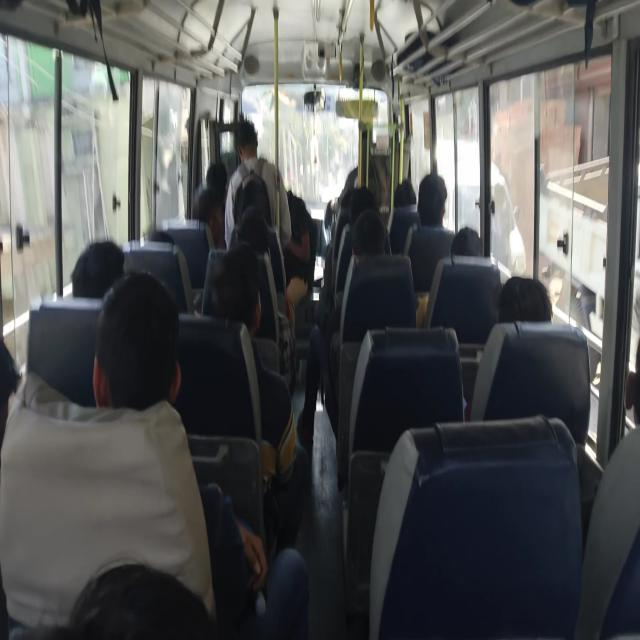person: (74, 556, 228, 640), (93, 298, 177, 409), (498, 263, 559, 351), (0, 310, 38, 421), (420, 156, 465, 249), (234, 182, 281, 252), (192, 181, 247, 235), (627, 278, 640, 497), (223, 258, 271, 316), (82, 227, 124, 288), (352, 230, 393, 278), (454, 231, 486, 281), (234, 124, 270, 166), (142, 224, 180, 263), (347, 186, 376, 232), (205, 154, 230, 192), (396, 187, 414, 221)
